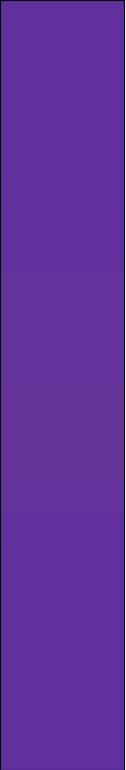safe: (11, 12, 114, 755)
